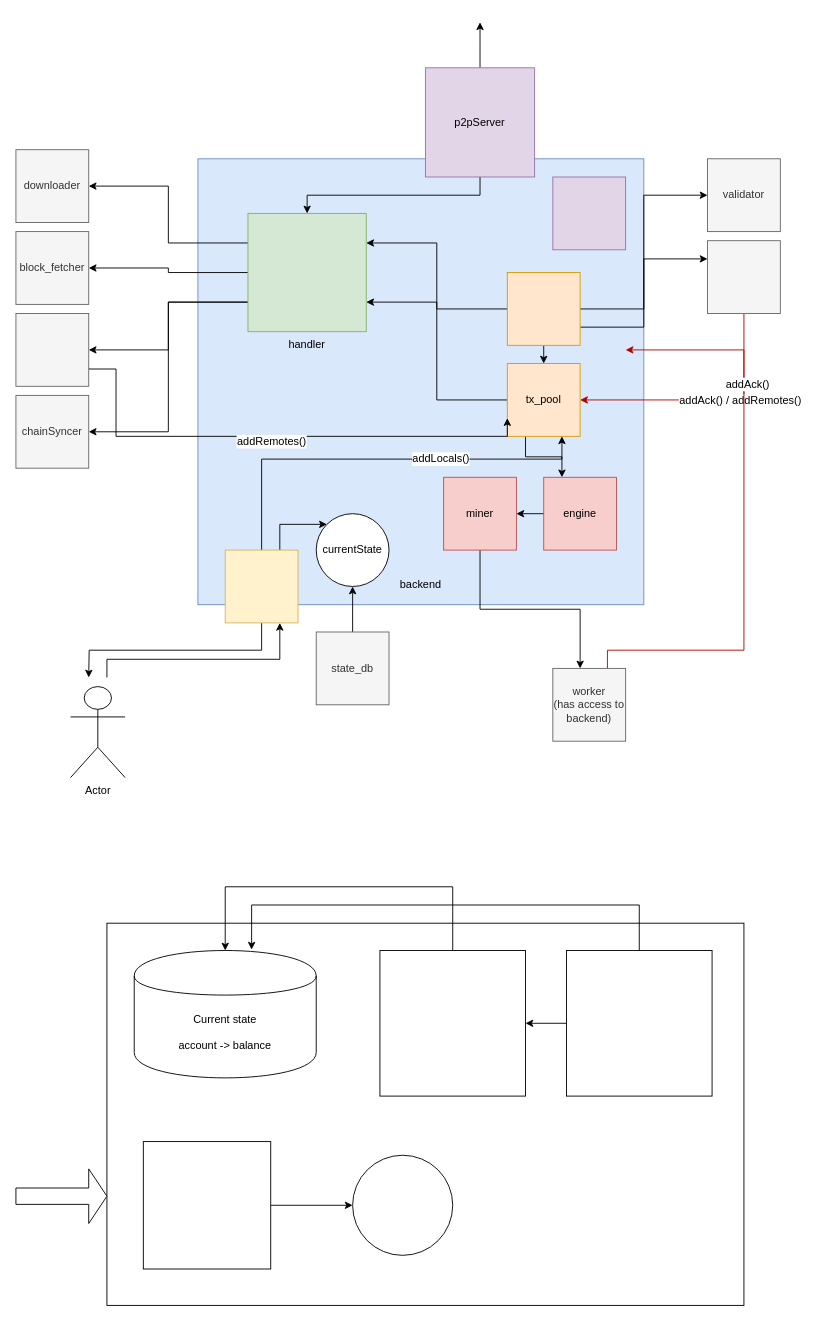
This 816x1321 diagram has some shape labels left out. The centre of each missing label's shape, as x and y in pixels:
apiBackend: the point at 261,586
blockchain: the point at 543,308
chainDb: the point at 589,213
confirmed transactions: the point at 452,1023
pending transactions: the point at 206,1205
processor: the point at 743,276
tx_fetcher: the point at 52,349
unconfirmed transactions: the point at 639,1023
